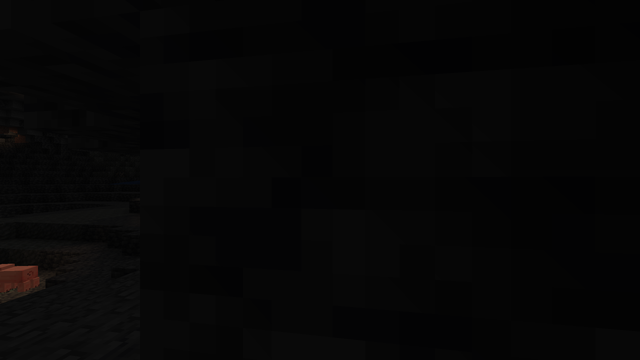cochons: (2, 263, 39, 293)
